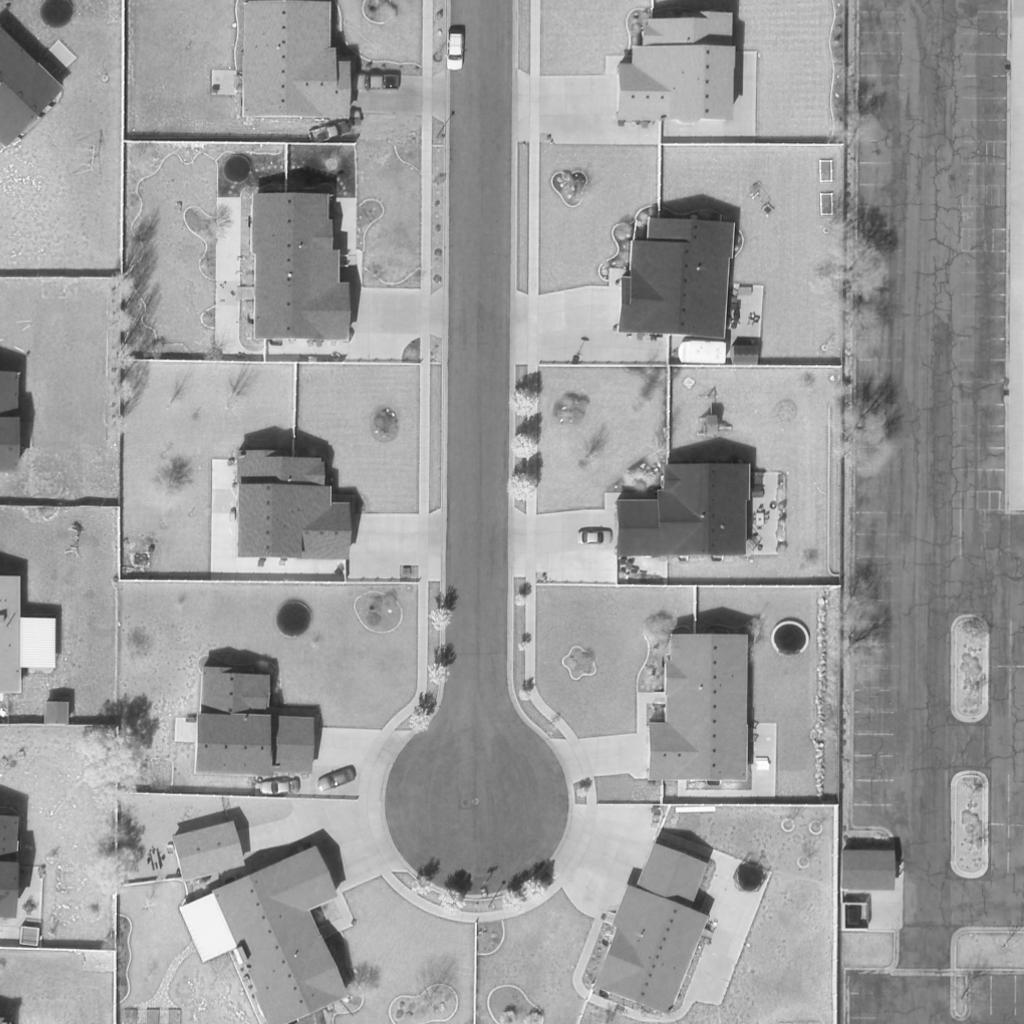vehicle: (305, 118, 355, 148), (314, 764, 360, 794), (259, 778, 301, 798), (355, 73, 401, 91), (448, 34, 464, 72), (577, 532, 613, 546)
